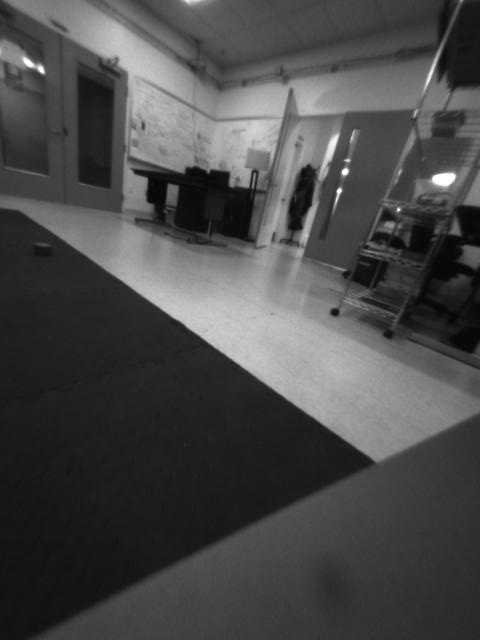dogtoy: (25, 231, 65, 261)
